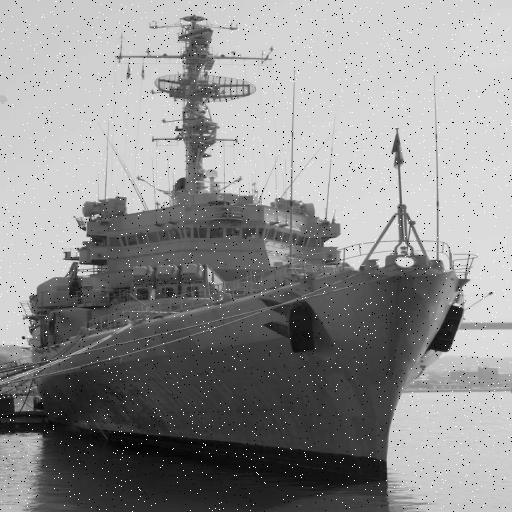Portanaves: (2, 4, 481, 485)
